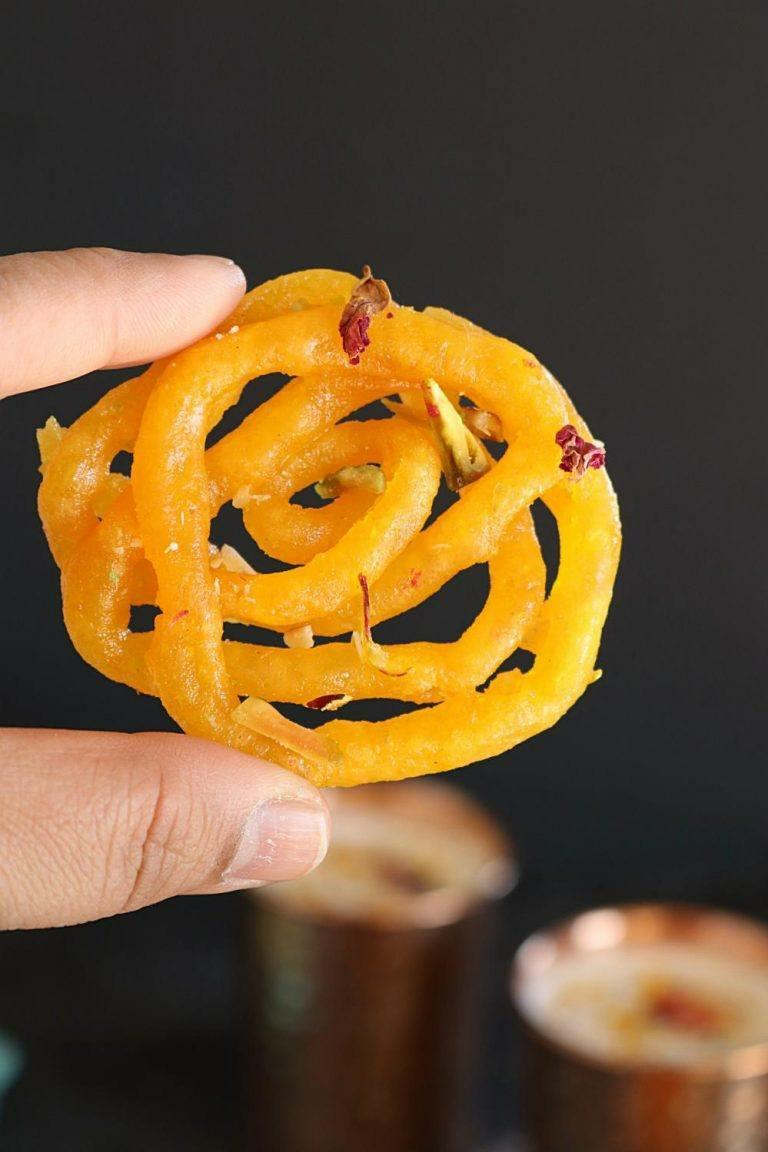Jalebi: (31, 255, 630, 792)
